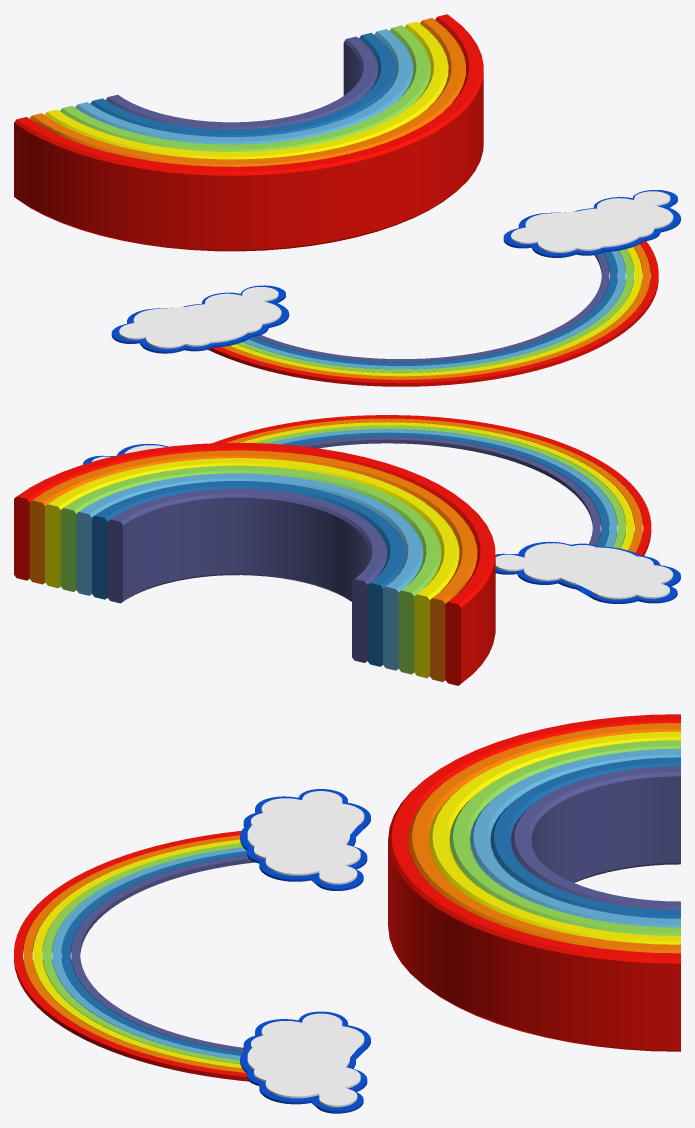
Rendered from RAINBOW.fbx.
The picture shows the model from 3 angles, top to bottom: view 1: azimuth 30°, elevation 25°; view 2: azimuth 150°, elevation 25°; view 3: azimuth 270°, elevation 25°; orthographic projection. The views are drawn at different scales.
Parts seen in each view (by area): view 1: rainbow red, Plane.001, Plane, rainbow orange, rainbow yellow, rainbow green, rainbow light blue, Cube, rainbow purple, rainbow sea blue, Cube.001, Cube.002 (+6 smaller); view 2: rainbow purple, rainbow red, rainbow orange, rainbow yellow, rainbow green, rainbow light blue, rainbow sea blue, Plane.001, Cube.006, Cube, Cube.001, Cube.002 (+4 smaller); view 3: rainbow red, rainbow purple, Plane, Plane.001, rainbow orange, rainbow yellow, rainbow green, rainbow light blue, rainbow sea blue, Cube, Cube.006, Cube.001 (+6 smaller).
Part boxes in pixels (left/top/right/bottom): rainbow red: left=14, top=14, right=483, bottom=251; Plane.001: left=119, top=287, right=281, bottom=348; Plane: left=511, top=191, right=673, bottom=252; rainbow orange: left=29, top=18, right=466, bottom=166; rainbow yellow: left=45, top=21, right=448, bottom=159; rainbow green: left=60, top=25, right=430, bottom=151; rainbow light blue: left=75, top=29, right=413, bottom=144; Cube: left=208, top=241, right=658, bottom=386; rainbow purple: left=105, top=36, right=378, bottom=129; rainbow sea blue: left=90, top=32, right=395, bottom=136; Cube.001: left=221, top=244, right=650, bottom=379; Cube.002: left=229, top=247, right=642, bottom=376; rainbow purple: left=107, top=488, right=387, bottom=662; rainbow red: left=14, top=442, right=495, bottom=685; rainbow orange: left=29, top=450, right=477, bottom=681; rainbow yellow: left=45, top=458, right=459, bottom=678; rainbow green: left=60, top=465, right=441, bottom=674; rainbow light blue: left=76, top=473, right=423, bottom=670; rainbow sea blue: left=92, top=481, right=405, bottom=666; Plane.001: left=495, top=543, right=673, bottom=599; Cube.006: left=294, top=436, right=600, bottom=545; Cube: left=212, top=415, right=651, bottom=555; Cube.001: left=226, top=418, right=642, bottom=552; Cube.002: left=240, top=422, right=634, bottom=550; rainbow red: left=388, top=714, right=680, bottom=1051; rainbow purple: left=511, top=766, right=680, bottom=909; Plane: left=247, top=1013, right=364, bottom=1107; Plane.001: left=247, top=791, right=364, bottom=884; rainbow orange: left=408, top=723, right=680, bottom=953; rainbow yellow: left=429, top=731, right=680, bottom=944; rainbow green: left=449, top=740, right=680, bottom=935; rainbow light blue: left=470, top=748, right=680, bottom=927; rainbow sea blue: left=490, top=757, right=680, bottom=918; Cube: left=14, top=831, right=248, bottom=1081; Cube.006: left=71, top=855, right=254, bottom=1051; Cube.001: left=23, top=835, right=246, bottom=1073.
Bounding box in the file's own units: 3829 × 635 × 3346.
